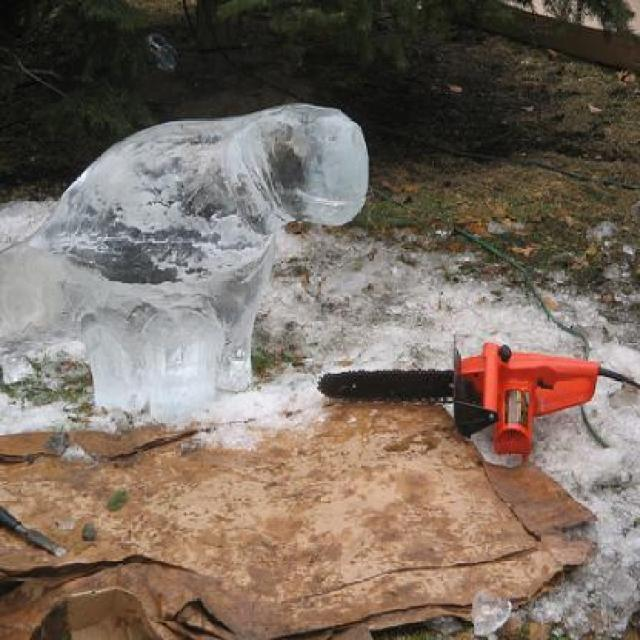Chainsaw: (314, 338, 598, 458)
